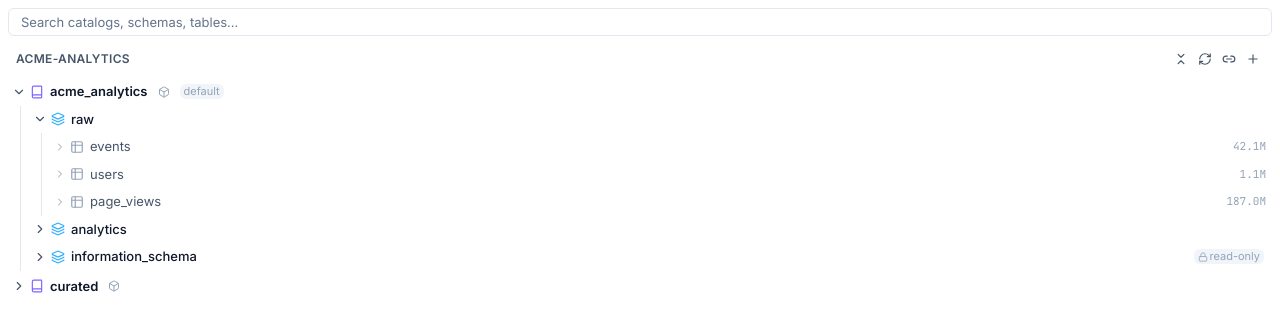
Test: CatalogTree › returns to the remembered tree when the search is cleared
This screenshot has width=1280, height=310.
Expected: the button "events 42.1M" is shown, [70, 133, 1272, 160]
In the field named "Search tables": [640, 22] box [8, 8, 1272, 36], type "revenue"
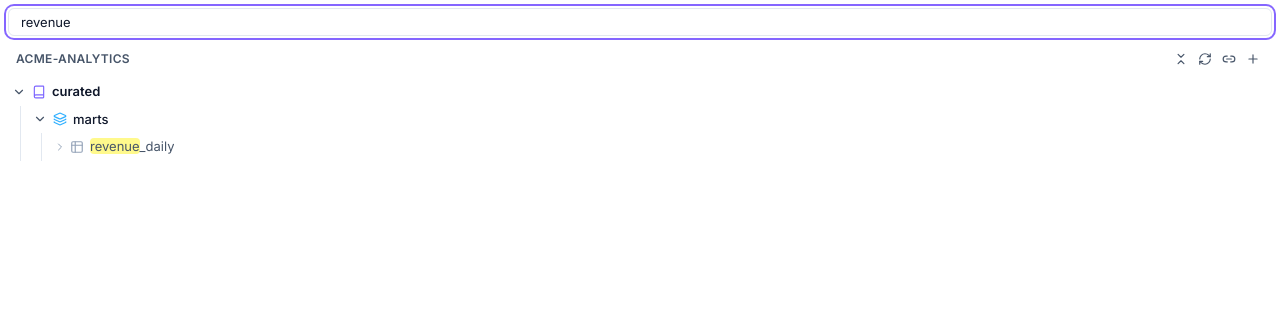
Result: the element named "Search results" is shown at [8, 78, 1272, 160]
Clear the field named "Search tables": [640, 22] box [8, 8, 1272, 36]
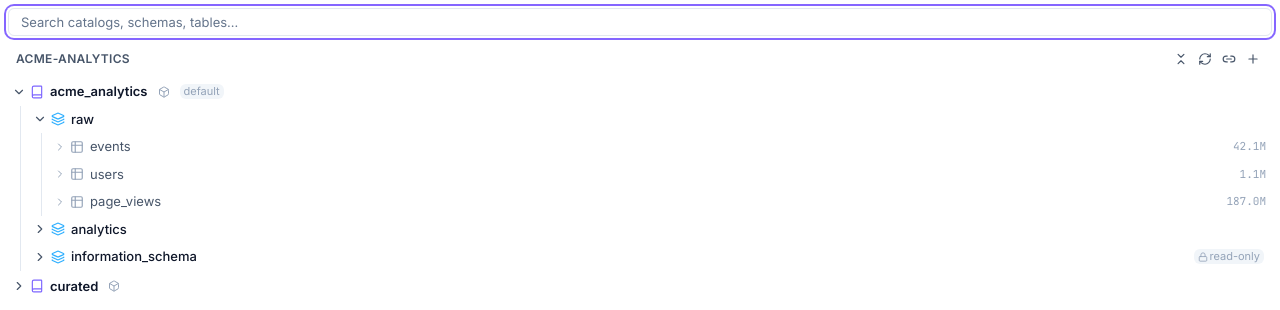
Result: the button "events 42.1M" is shown at [70, 133, 1272, 160]
